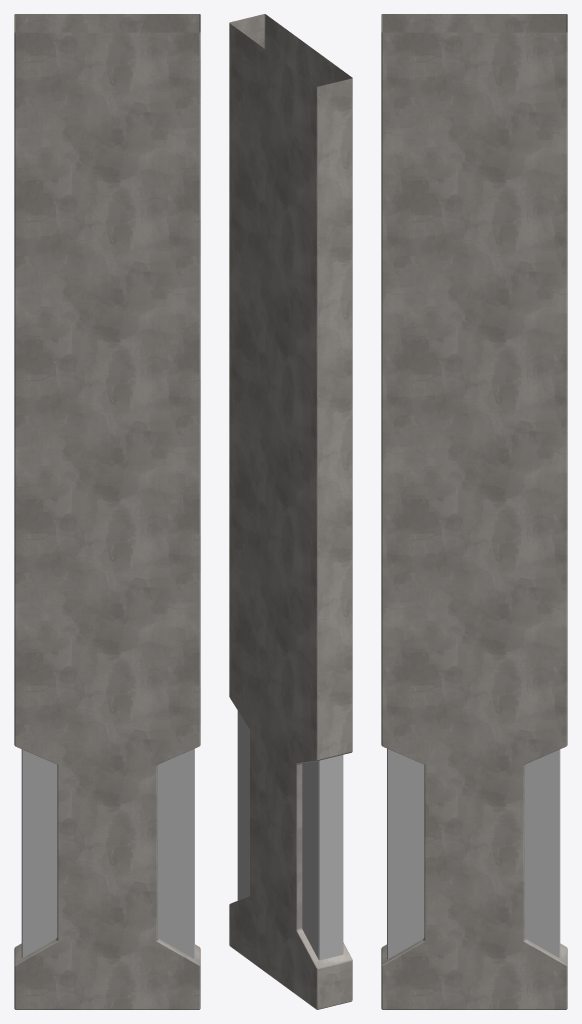
Rendered from Mesh_pillars_big.fbx.
3 views of the same model, side by side, from view 1: azimuth 90°, elevation 25°; view 2: azimuth 210°, elevation 25°; view 3: azimuth 270°, elevation 25° (orthographic). The views are drawn at different scales.
Parts seen in each view (by area): view 1: MESH_pillar_big; view 2: MESH_pillar_big; view 3: MESH_pillar_big.
Part boxes in pixels (x1,y1,x2,y2): MESH_pillar_big: [14, 14, 200, 1009]; MESH_pillar_big: [229, 14, 352, 1009]; MESH_pillar_big: [381, 14, 567, 1009].
Bounding box in the file's own units: 106 × 2574 × 444.
